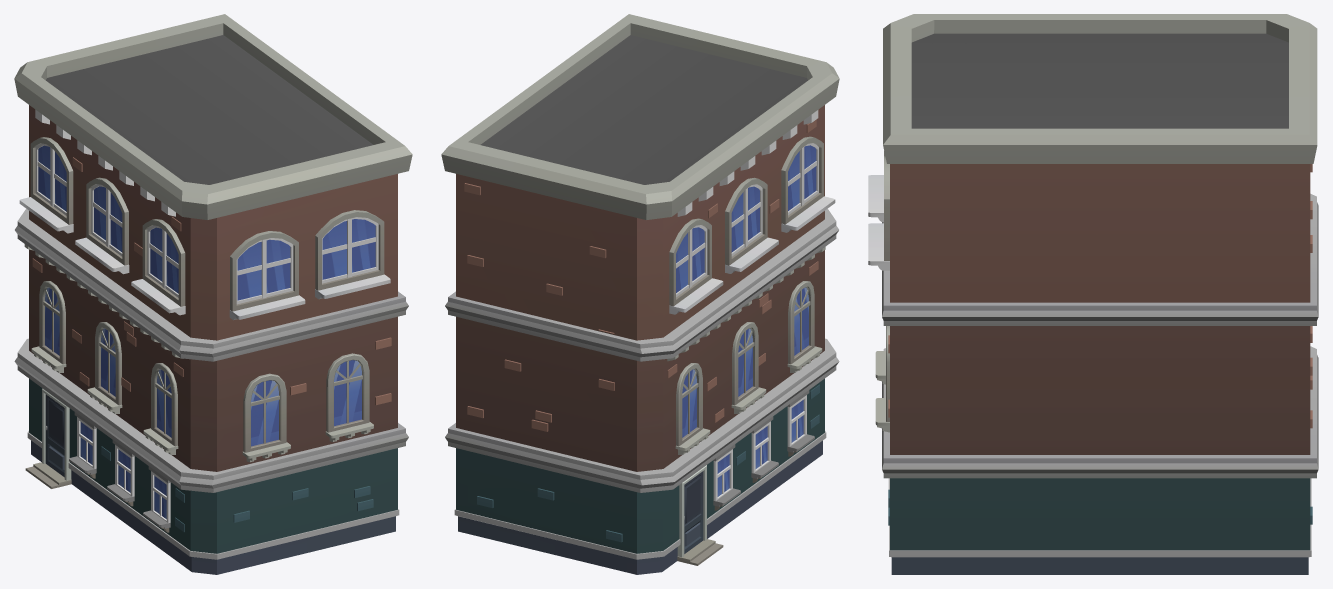
File: Building_18_3_L.fbx
3 renders of one model, left to right at view 1: azimuth 30°, elevation 25°; view 2: azimuth 150°, elevation 25°; view 3: azimuth 270°, elevation 25°, orthographic. The views are drawn at different scales.
Parts seen in each view (by area): view 1: Building_18_3_L; view 2: Building_18_3_L; view 3: Building_18_3_L.
Part boxes in pixels (left/top/right/bottom): Building_18_3_L: left=14, top=14, right=412, bottom=574; Building_18_3_L: left=441, top=14, right=839, bottom=574; Building_18_3_L: left=868, top=14, right=1318, bottom=574.
Size of the model in its own units: 719 by 1156 by 1059.
